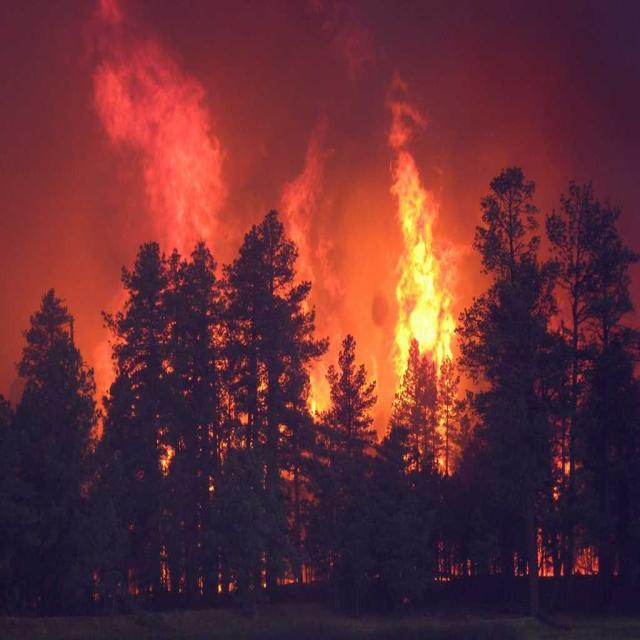Fire: (396, 126, 457, 362), (311, 344, 333, 414), (551, 426, 573, 494), (573, 546, 600, 580), (535, 536, 554, 578)
